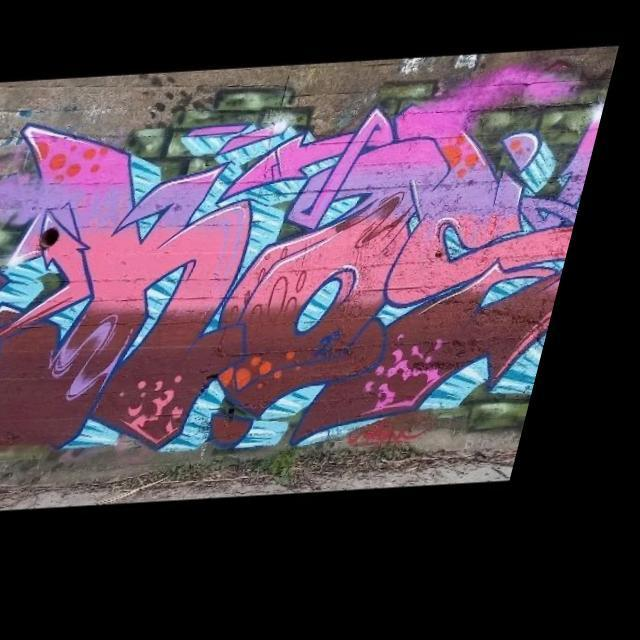-: (0, 82, 617, 486)
